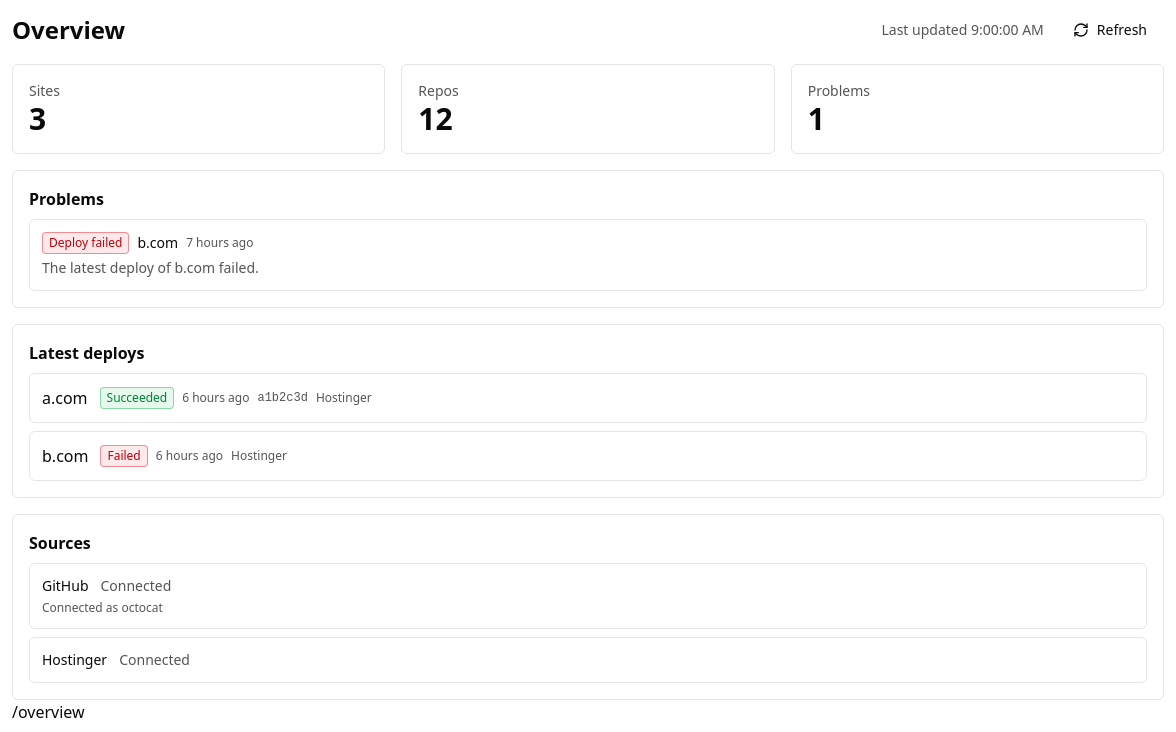
Scenario: OverviewPage › a latest deploy opens the site detail; a failed deploy problem too
Click the link "a.com" at (65, 398), box [42,386,88,410]
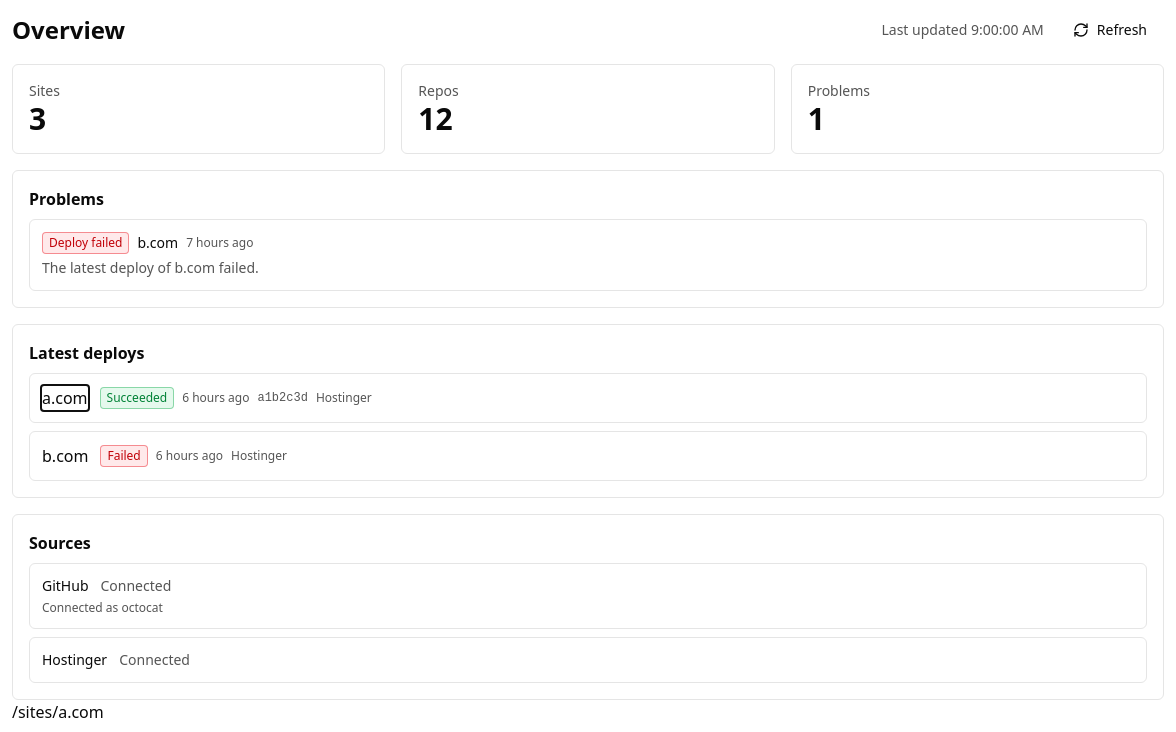
Now the text with test id "where" reads "/sites/a.com", box [12,701,104,723]
Click the link "b.com" next to "7 hours ago" at (158, 243), box [138,233,178,253]
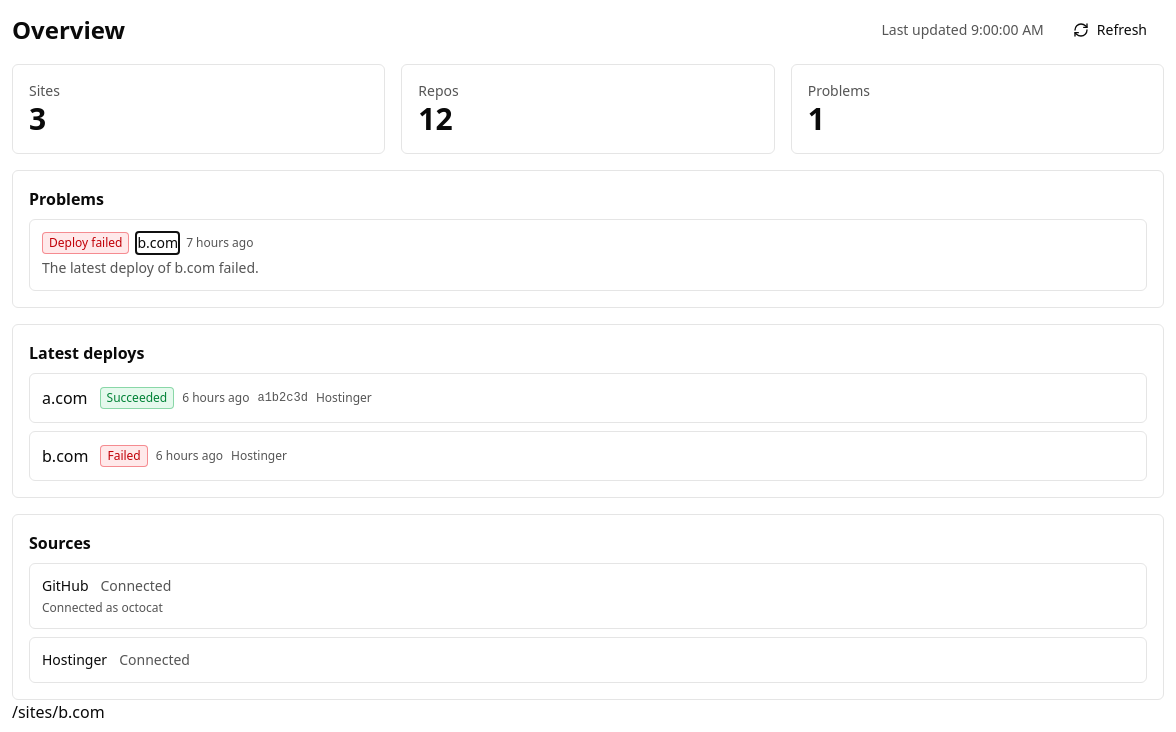
Now the text with test id "where" reads "/sites/b.com", box [12,701,105,723]
